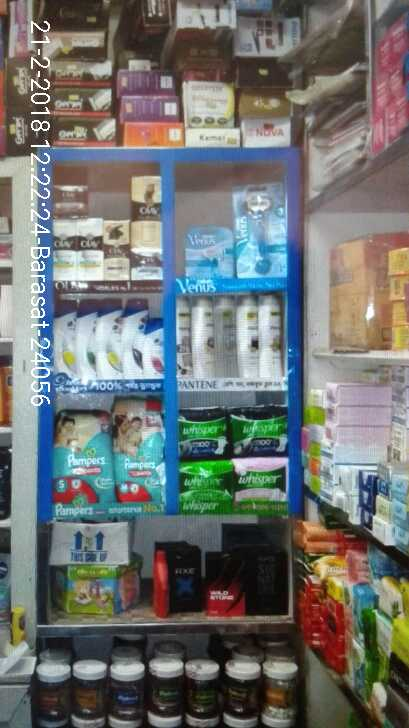venus: (230, 179, 286, 283), (186, 226, 233, 283)
